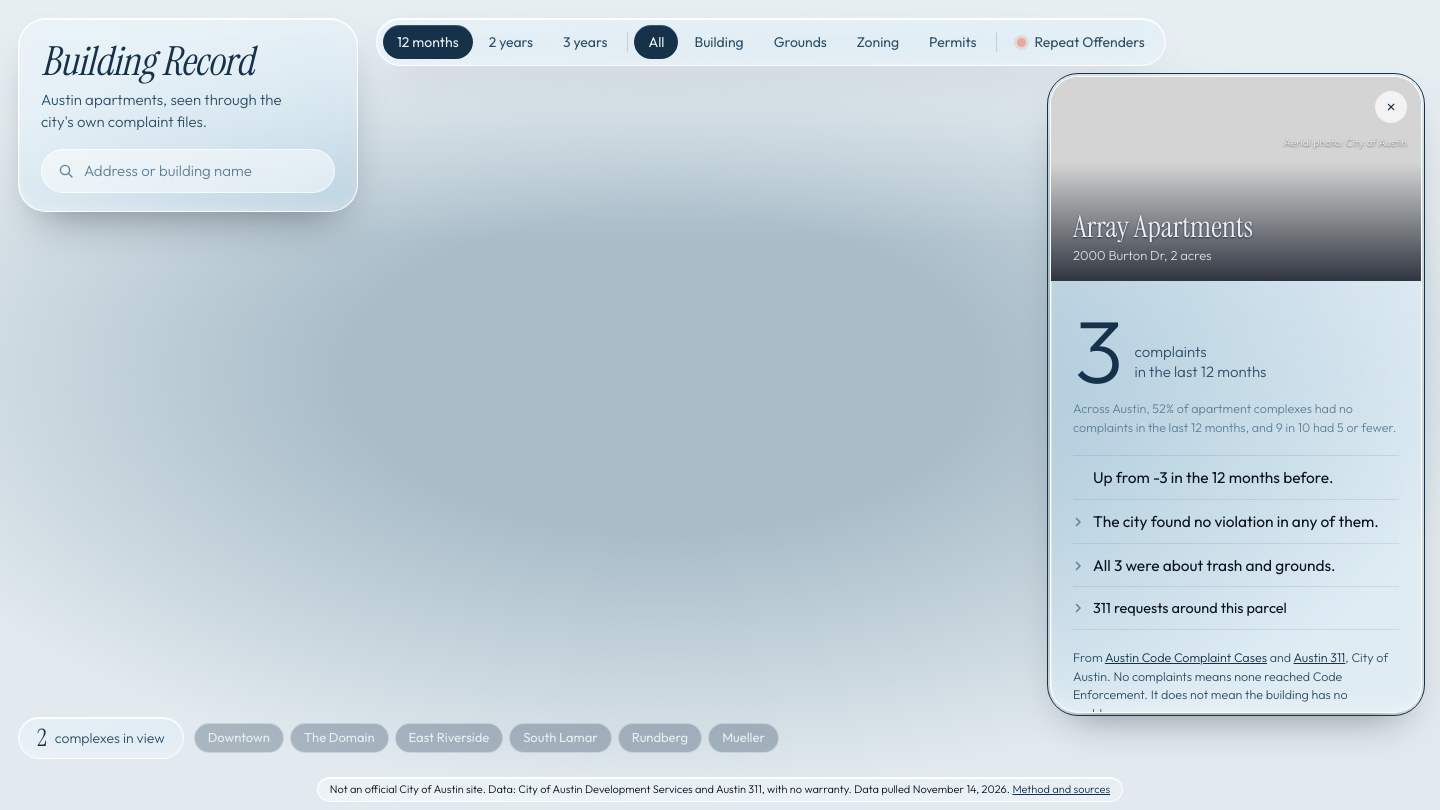
still applies a filter changed while a building is open, to the ground the count was on
Click the button "Grounds" at coordinates (800, 42), box [760,25,841,59]
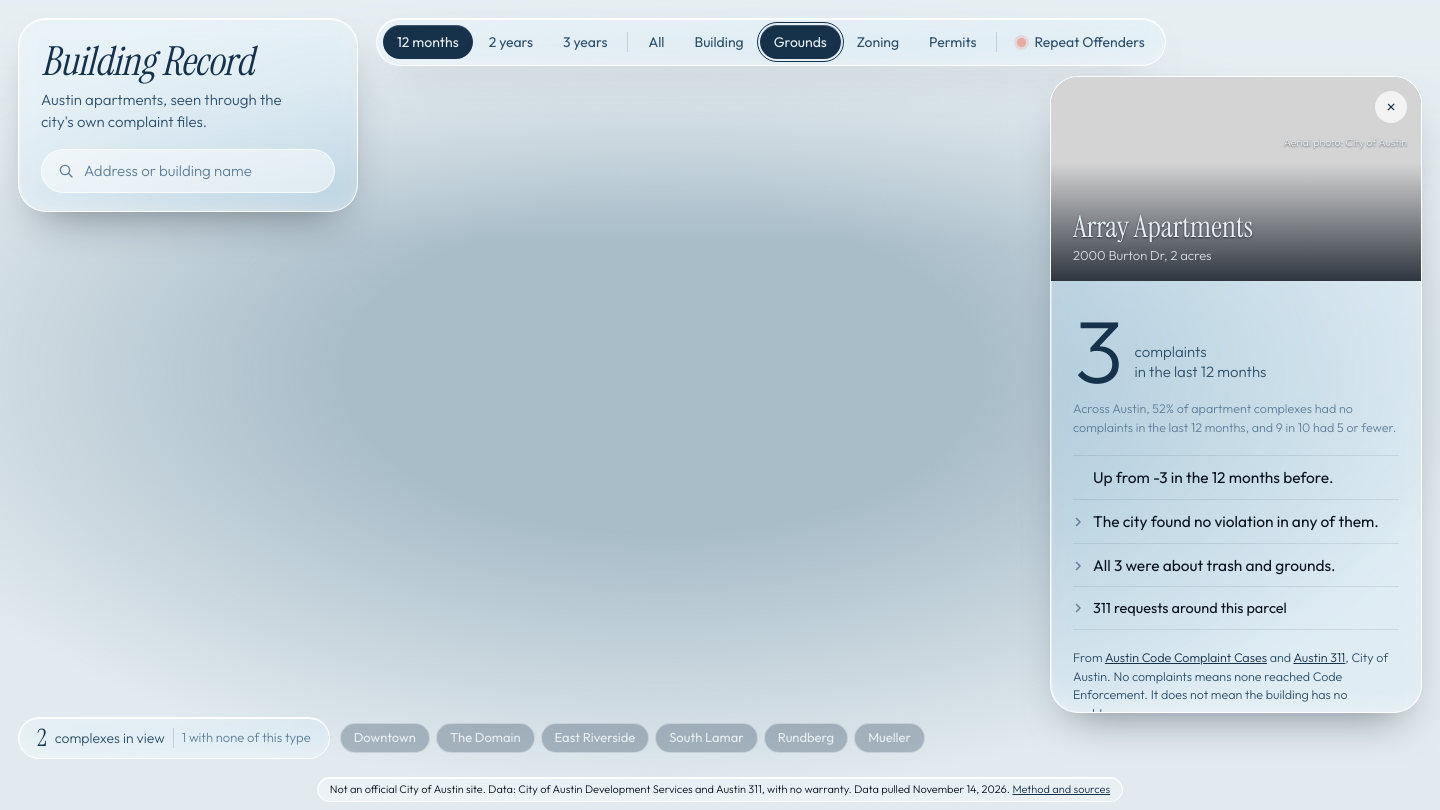
Expected: the element "2 complexes in view" is shown, [18,717,925,759]
Result: the text "1 with none of this type" is shown at [182,728,311,747]
